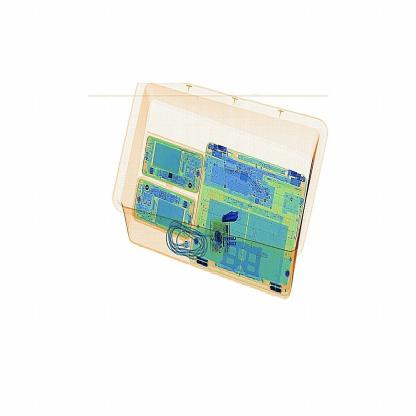knife: (219, 206, 246, 226)
